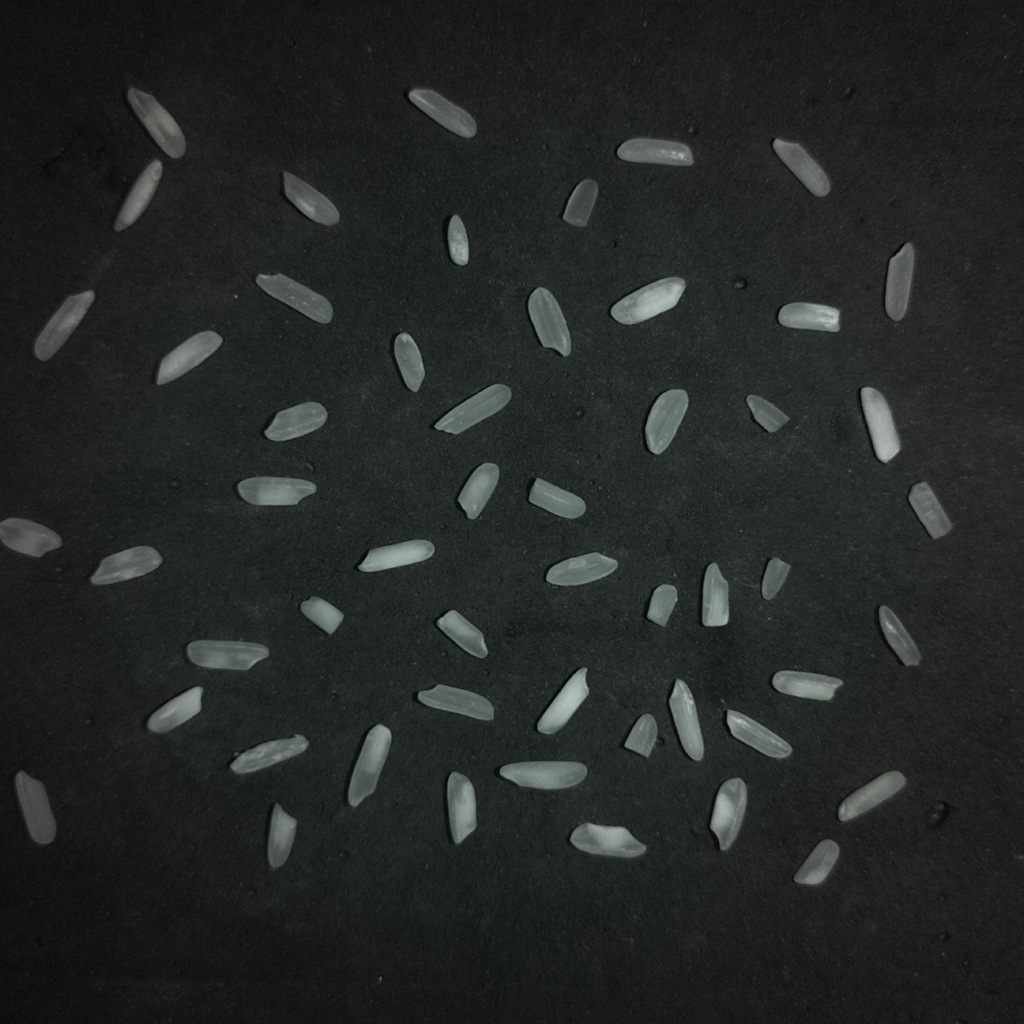broken: (282, 171, 339, 225), (230, 734, 308, 773), (528, 288, 571, 355), (645, 389, 688, 454), (90, 546, 162, 584), (264, 401, 327, 441), (878, 605, 919, 665), (908, 482, 951, 539), (0, 517, 61, 557), (437, 610, 487, 658), (545, 552, 617, 585), (457, 462, 498, 519), (528, 478, 585, 518), (793, 839, 839, 885), (267, 803, 296, 868), (393, 332, 424, 392), (562, 179, 598, 227), (702, 562, 728, 626), (746, 394, 789, 432), (624, 713, 657, 757), (646, 584, 678, 627), (761, 557, 790, 599)
chalky: (155, 330, 222, 384), (113, 159, 162, 231), (536, 667, 588, 734), (610, 277, 684, 324), (860, 387, 900, 462), (668, 679, 704, 760), (570, 822, 646, 858), (710, 777, 746, 851), (146, 686, 202, 733), (499, 761, 587, 789), (357, 539, 434, 571), (236, 477, 316, 506), (446, 772, 476, 843), (772, 670, 842, 700), (777, 301, 840, 332), (300, 596, 343, 634), (446, 214, 470, 266)
whole: (33, 290, 94, 360), (126, 88, 185, 158), (434, 384, 511, 434), (255, 274, 332, 323), (347, 724, 391, 806), (772, 138, 830, 197), (837, 770, 904, 821), (408, 88, 476, 137), (726, 710, 791, 758), (14, 770, 55, 844), (417, 684, 493, 720), (186, 640, 269, 670), (884, 242, 914, 321), (617, 138, 692, 166)
